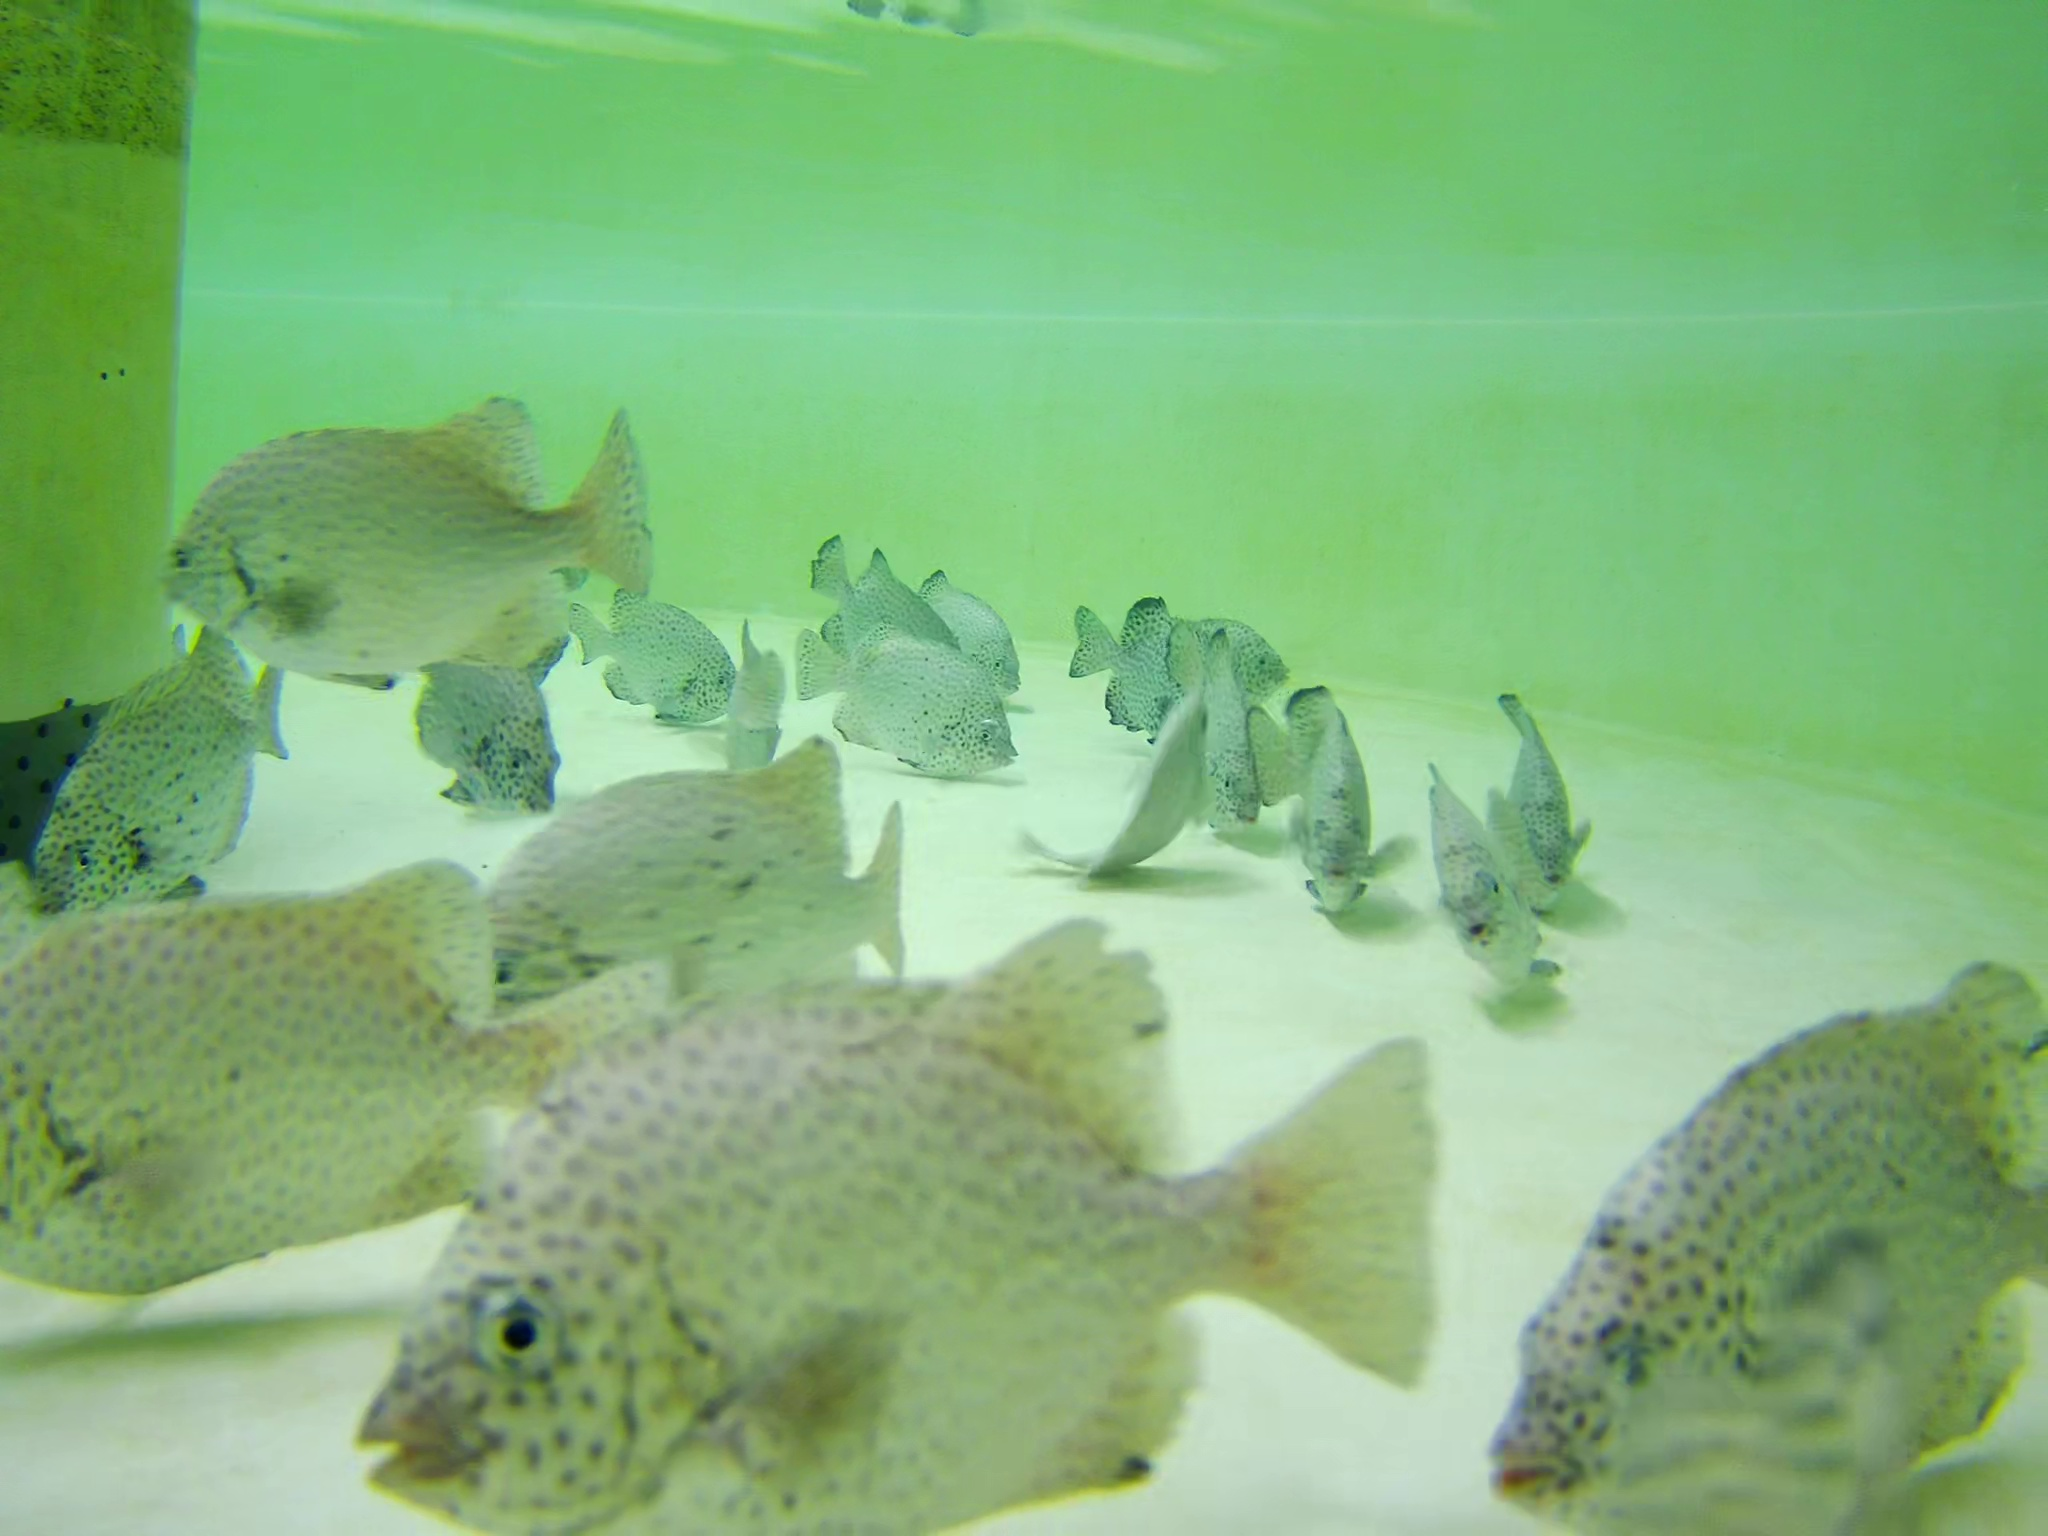fish: (355, 921, 1443, 1536), (1472, 944, 2048, 1536), (2, 868, 684, 1292), (431, 728, 908, 1041), (158, 382, 655, 662), (39, 615, 295, 895), (1251, 684, 1414, 926), (398, 592, 568, 815), (793, 624, 1024, 773), (1022, 708, 1213, 881), (1417, 771, 1561, 984), (1168, 620, 1293, 837), (805, 518, 953, 676), (568, 581, 734, 721), (1496, 692, 1593, 907), (1074, 595, 1209, 726), (900, 566, 1016, 689), (714, 613, 784, 779)
